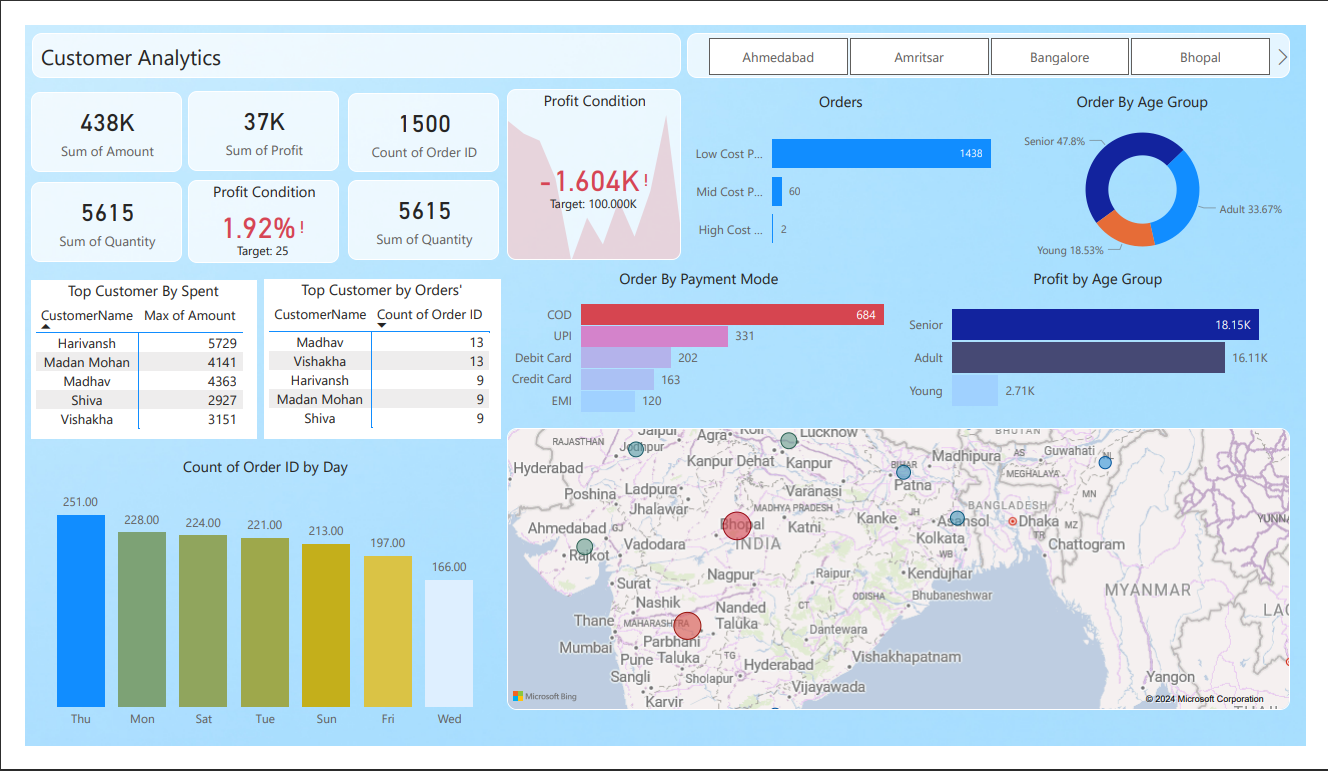

What the dashboard file says about the page in this screenshot:
{"tool":"powerbi","page":{"name":"Customer Behavior","canvas":[1280,720],"ordinal":1},"visuals":[{"type":"card","fields":{"Values":["Details.Amount"]},"box":[6.2,66.6,151,79.9],"z":0},{"type":"card","fields":{"Values":["Details.Profit"]},"box":[163.4,65.7,151,79.9],"z":1},{"type":"card","fields":{"Values":["Details.Order ID"]},"box":[323.3,67.5,151,79.1],"z":2},{"type":"card","fields":{"Values":["Details.Quantity"]},"box":[6.2,157.2,151,79.9],"z":3},{"type":"donutChart","title":"Order By Age Group","fields":{"Category":["Orders.Age Group"],"Y":["Details.Order ID"]},"box":[961,66,313,172],"z":4},{"type":"barChart","title":"Orders","fields":{"Category":["Details.Product Standard"],"Y":["Details.Order ID"]},"box":[657,66,318,169],"z":5},{"type":"barChart","title":"Profit by Age Group","fields":{"Y":["Details.Profit"],"Category":["Orders.Age Group"]},"box":[881,238,384,157],"z":6},{"type":"clusteredColumnChart","fields":{"Y":["Details.Order ID"],"Category":["Orders.Day"]},"box":[7,426,467,281],"z":7},{"type":"map","fields":{"Category":["Orders.State"],"Size":["Details.Order ID"]},"box":[482,403,783,282],"z":8},{"type":"kpi","title":"Profit Condition","fields":{"Indicator":["Details.Profit"],"TrendLine":["Orders.Month"],"Goal":["Details.Profit Target"]},"box":[482.3,64,174.1,170.5],"z":9},{"type":"kpi","title":"Profit Condition","fields":{"Indicator":["Details.Profit Percentage"],"Goal":["Details.Profit Percentage Target"],"TrendLine":["Orders.Year"]},"box":[163.4,155.4,151,82.6],"z":10},{"type":"card","fields":{"Values":["Details.Quantity"]},"box":[323.3,154.6,151,79.9],"z":11},{"type":"textbox","box":[7.1,8,649.3,45.3],"z":14},{"type":"slicer","fields":{"Values":["Orders.City"]},"box":[661.8,8,603.1,45.3],"z":15},{"type":"pivotTable","title":"Top Customer By Spent","fields":{"Values":["Details.Amount"],"Rows":["Orders.CustomerName"]},"box":[6,255,225,158],"z":16},{"type":"pivotTable","title":"Top Customer by Orders''","fields":{"Rows":["Orders.CustomerName"],"Values":["Details.Order ID"]},"box":[239,254,236,159],"z":17},{"type":"barChart","title":"Order By Payment Mode ","fields":{"Category":["Details.PaymentMode"],"Y":["Details.Order ID"]},"box":[482,238,384,157],"z":18}]}

Visuals, with their boxes on the page's 1280x720 design canvas (x1, y1, x2, y2). These are canvas units, not pixel positions in the 1328x771 screenshot, which may show the page scaled, cropped or inside an application window:
card - Details.Amount: box(6, 67, 157, 146)
card - Details.Profit: box(163, 66, 314, 146)
card - Details.Order ID: box(323, 68, 474, 147)
card - Details.Quantity: box(6, 157, 157, 237)
"Order By Age Group" donutChart: box(961, 66, 1274, 238)
"Orders" barChart: box(657, 66, 975, 235)
"Profit by Age Group" barChart: box(881, 238, 1265, 395)
clusteredColumnChart - Details.Order ID x Orders.Day: box(7, 426, 474, 707)
map - Orders.State x Details.Order ID: box(482, 403, 1265, 685)
"Profit Condition" kpi: box(482, 64, 656, 234)
"Profit Condition" kpi: box(163, 155, 314, 238)
card - Details.Quantity: box(323, 155, 474, 234)
textbox: box(7, 8, 656, 53)
slicer - Orders.City: box(662, 8, 1265, 53)
"Top Customer By Spent" pivotTable: box(6, 255, 231, 413)
"Top Customer by Orders''" pivotTable: box(239, 254, 475, 413)
"Order By Payment Mode " barChart: box(482, 238, 866, 395)
